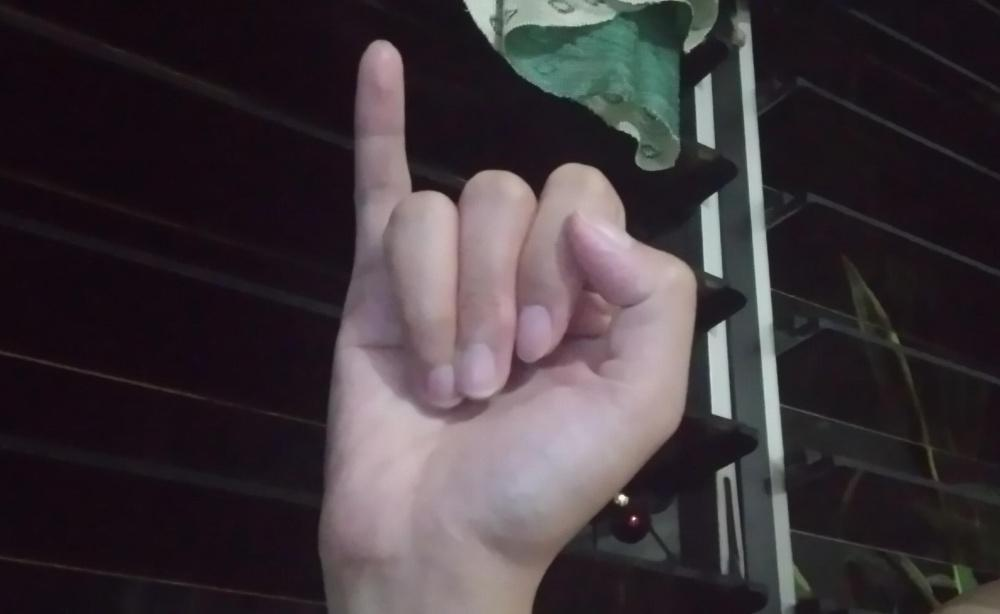i: (313, 36, 701, 591)
